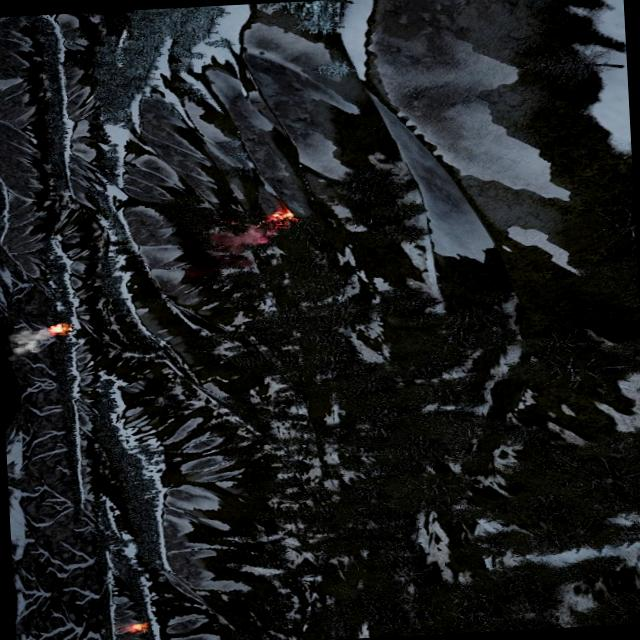fire: (115, 622, 149, 634), (268, 209, 296, 222), (50, 322, 67, 333)
smoke: (207, 218, 279, 254), (6, 324, 56, 358)
